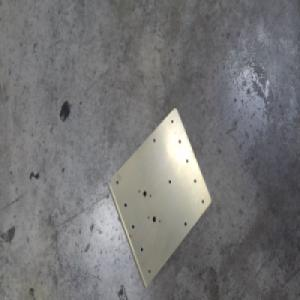MetalSheet: (106, 106, 212, 290)
